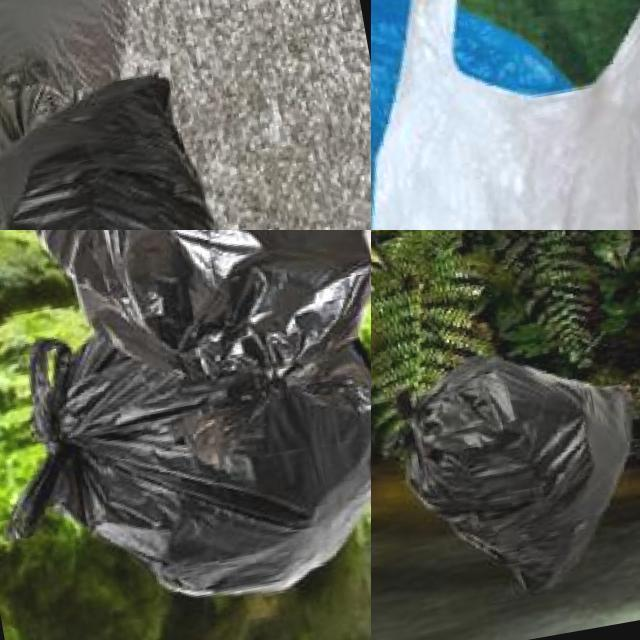waste: (7, 259, 371, 640), (381, 333, 640, 615), (371, 0, 640, 230), (0, 230, 371, 391), (371, 0, 599, 230), (0, 67, 244, 230), (0, 0, 153, 161)
